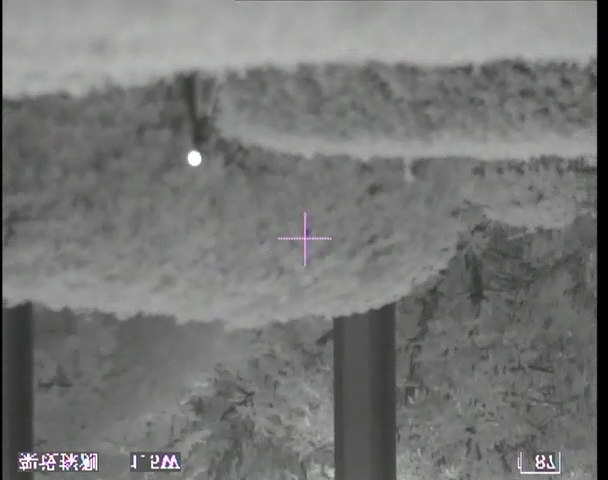my: (186, 150, 203, 168)
